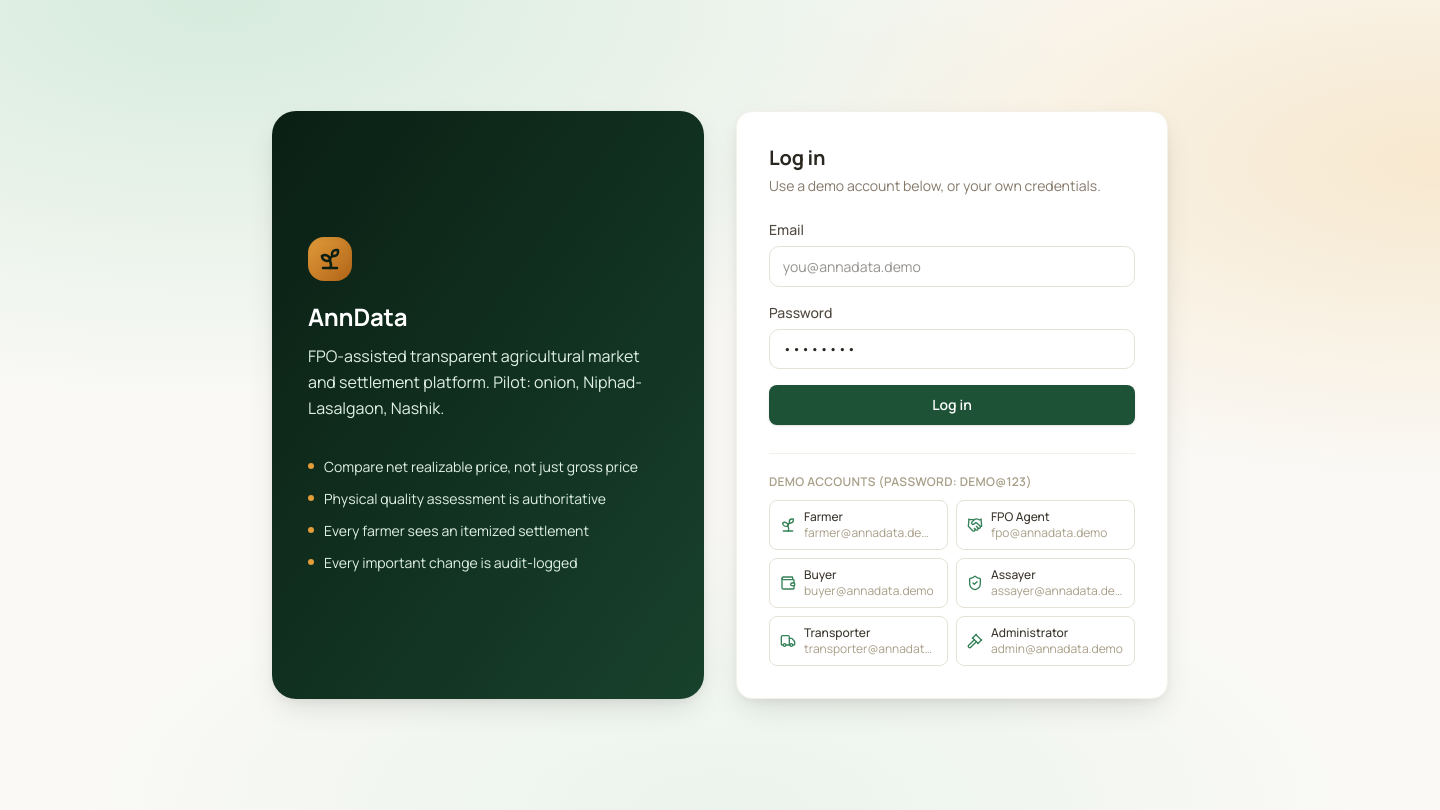
Test case: LoginPage › fills the email field when a demo account button is clicked
The width and height of the screenshot is (1440, 810).
Click the text "admin@annadata.demo" at x=1057, y=649, box [991, 641, 1123, 657]
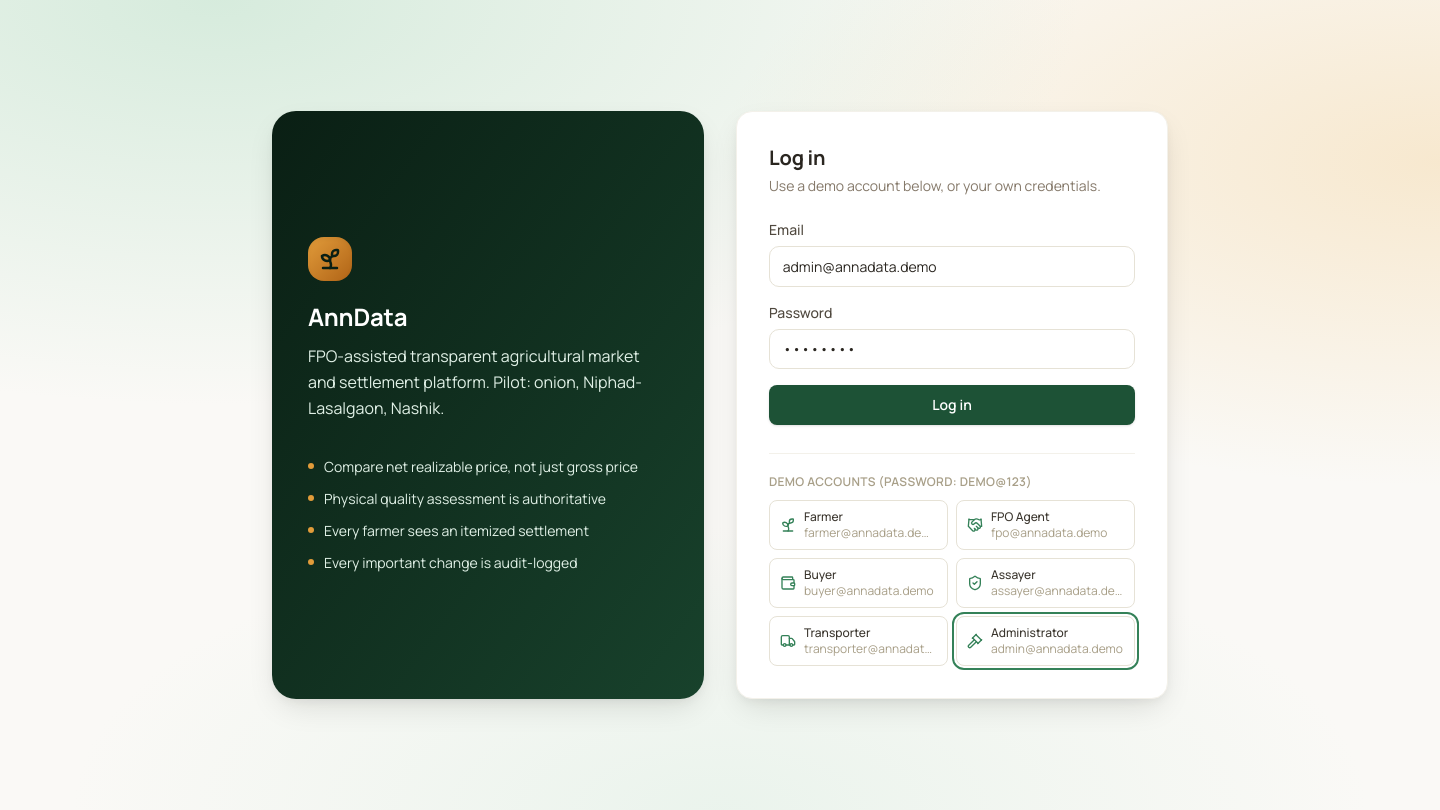
Now the field labelled "Email" holds "admin@annadata.demo", box [769, 246, 1135, 286]
